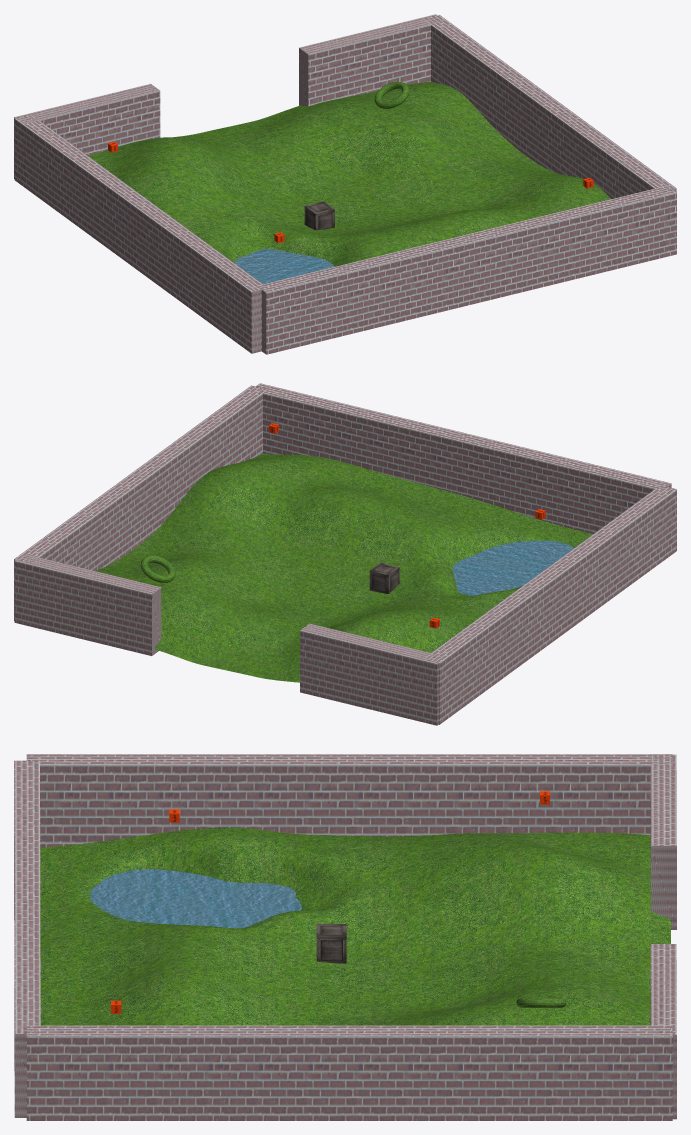
Rendered from map2.obj.
3 views of the same model, one above another, from view 1: azimuth 30°, elevation 25°; view 2: azimuth 150°, elevation 25°; view 3: azimuth 270°, elevation 25° (orthographic). The views are drawn at different scales.
Parts seen in each view (by area): view 1: terrain_1_Plane, wall.001_Cube.004, wall.003_Cube.007, wall_Cube, wall.004_Cube.009, wall.002_Cube.005, water_Plane.001, crate_Cube_Cube.001, Torus; view 2: terrain_1_Plane, wall.001_Cube.004, wall.003_Cube.007, wall_Cube, wall.004_Cube.009, wall.002_Cube.005, water_Plane.001, crate_Cube_Cube.001, Torus; view 3: terrain_1_Plane, wall_Cube, wall.003_Cube.007, water_Plane.001, wall.001_Cube.004, wall.002_Cube.005, wall.004_Cube.009, crate_Cube_Cube.001.
Part boxes in pixels (bbox=[...]): terrain_1_Plane: bbox=[87, 82, 610, 266]; wall.001_Cube.004: bbox=[257, 186, 676, 354]; wall.003_Cube.007: bbox=[14, 114, 262, 353]; wall_Cube: bbox=[423, 15, 676, 199]; wall.004_Cube.009: bbox=[299, 14, 443, 106]; wall.002_Cube.005: bbox=[14, 83, 160, 178]; water_Plane.001: bbox=[235, 249, 334, 284]; crate_Cube_Cube.001: bbox=[304, 201, 334, 230]; Torus: bbox=[374, 81, 409, 108]; terrain_1_Plane: bbox=[95, 453, 592, 682]; wall.001_Cube.004: bbox=[251, 383, 671, 533]; wall.003_Cube.007: bbox=[423, 487, 676, 724]; wall_Cube: bbox=[14, 385, 267, 620]; wall.004_Cube.009: bbox=[14, 554, 161, 655]; wall.002_Cube.005: bbox=[300, 623, 442, 725]; water_Plane.001: bbox=[452, 540, 573, 595]; crate_Cube_Cube.001: bbox=[369, 562, 399, 593]; Torus: bbox=[140, 555, 175, 582]; terrain_1_Plane: bbox=[40, 827, 670, 1025]; wall_Cube: bbox=[26, 1025, 672, 1120]; wall.003_Cube.007: bbox=[26, 754, 672, 847]; water_Plane.001: bbox=[90, 869, 301, 928]; wall.001_Cube.004: bbox=[14, 760, 40, 1117]; wall.002_Cube.005: bbox=[650, 754, 676, 929]; wall.004_Cube.009: bbox=[650, 944, 676, 1119]; crate_Cube_Cube.001: bbox=[316, 924, 346, 963].
Size of what is drawn, in the model's own units: 9.53 by 1.84 by 9.45.
12 materials, 12 textured.
